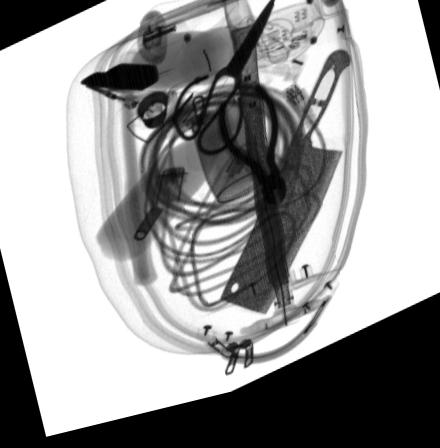Hammer: (79, 67, 159, 294)
Knife: (220, 64, 349, 329)
Pliers: (215, 94, 289, 218)
Scissors: (174, 2, 279, 166)
